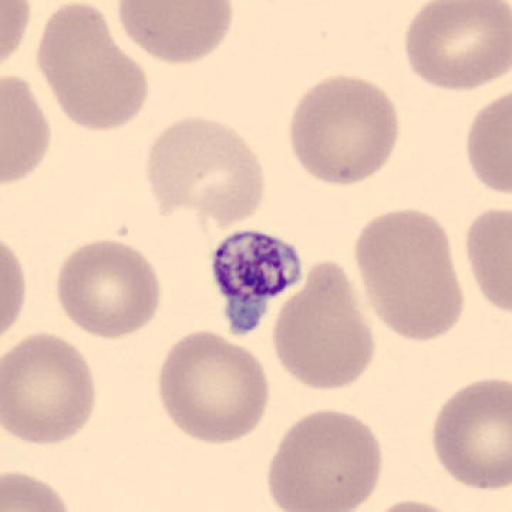Platelet: (208, 226, 306, 332)
RBC: (352, 206, 464, 344), (36, 2, 150, 132), (144, 114, 267, 232), (270, 258, 374, 392), (156, 328, 271, 446), (287, 72, 401, 188), (266, 407, 383, 512), (55, 236, 161, 341), (2, 332, 98, 446), (404, 0, 512, 93), (432, 376, 512, 491), (144, 114, 229, 220), (117, 0, 233, 66), (2, 75, 52, 185), (465, 206, 512, 316), (466, 90, 512, 196), (1, 469, 71, 512), (1, 240, 26, 340), (1, 0, 32, 66), (354, 496, 465, 512)
